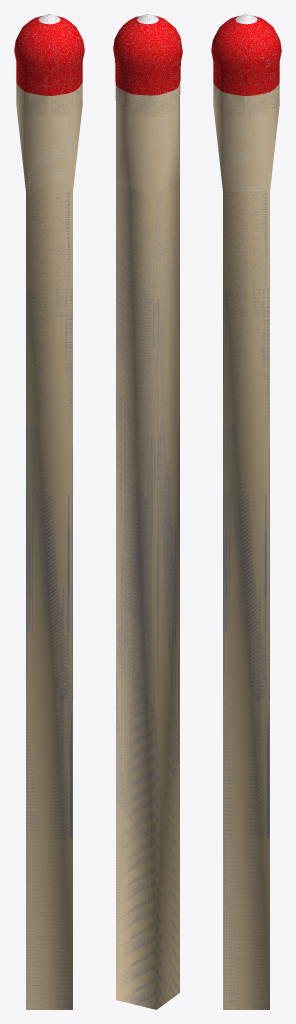
The model's file is matches.dae.
The picture shows the model from 3 angles, left to right: view 1: azimuth 90°, elevation 25°; view 2: azimuth 150°, elevation 25°; view 3: azimuth 270°, elevation 25°; orthographic projection.
Visible parts, largest first — view 1: group_0 (×2); view 2: group_0 (×2); view 3: group_0 (×2).
Boxes of the visible parts, <box> form: group_0 (×2): <box>14,16,84,1009</box>; group_0 (×2): <box>113,15,182,1009</box>; group_0 (×2): <box>211,16,281,1009</box>.
Size of the model in its own units: 0.0582 by 0.0582 by 0.8946.
